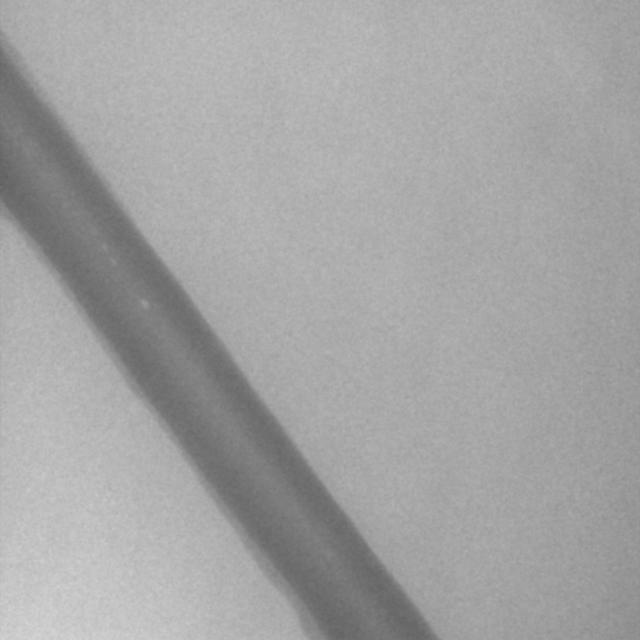air-hole: (142, 294, 150, 316), (100, 242, 107, 253), (89, 229, 96, 239), (112, 256, 116, 271)
